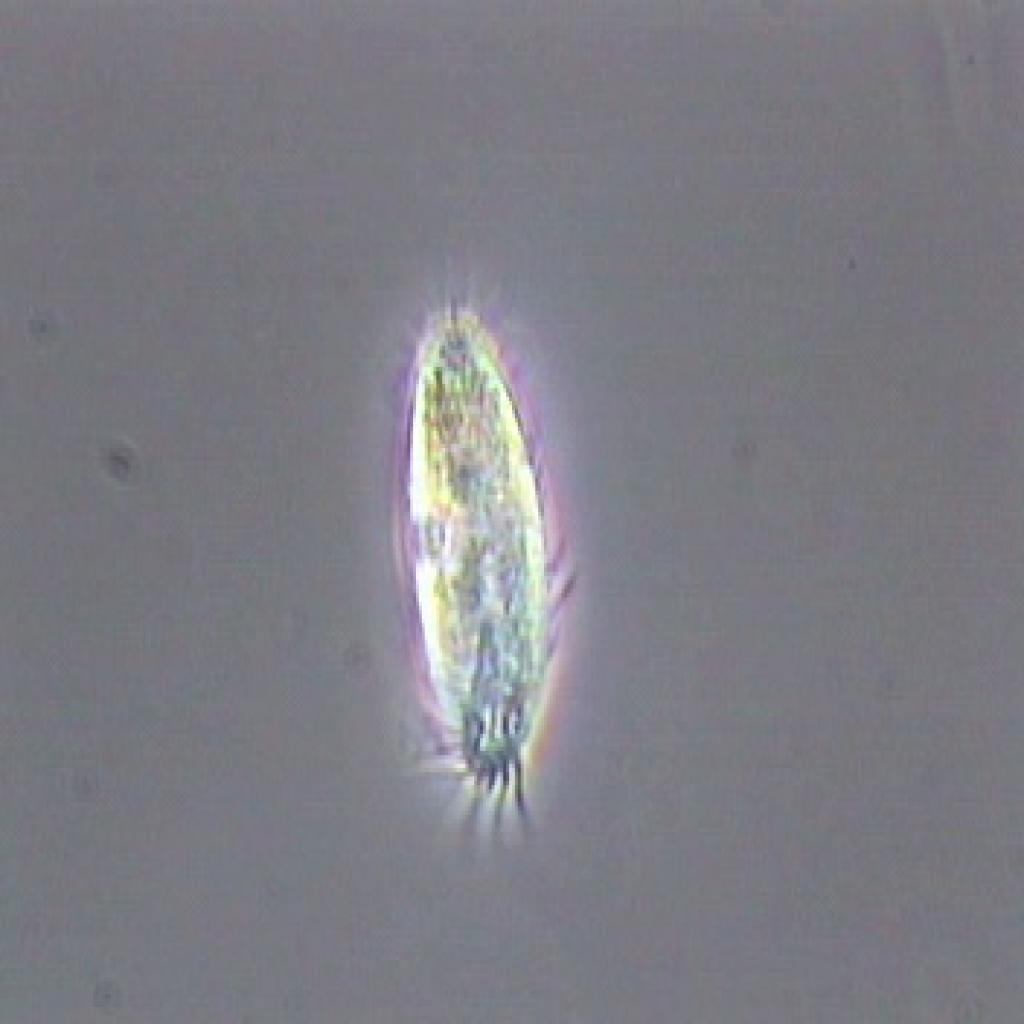Stylonychia: (350, 271, 606, 890)
